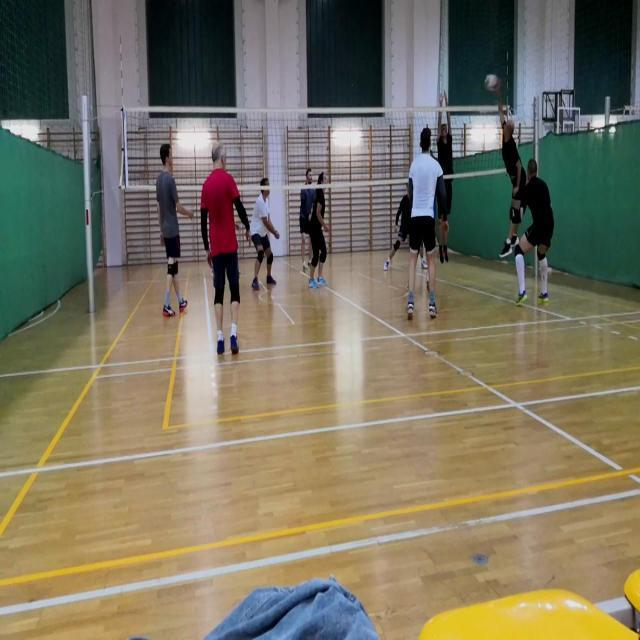volleyball: (484, 74, 499, 92)
